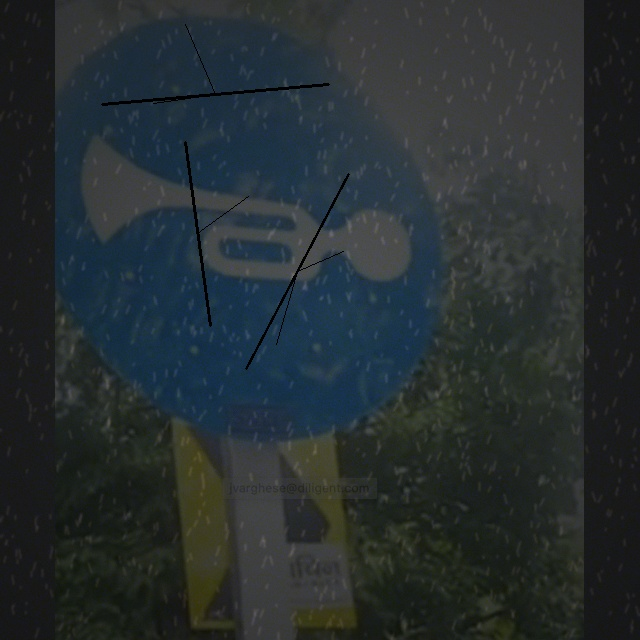Compulsory_Sound_Horn: (68, 60, 419, 368)
